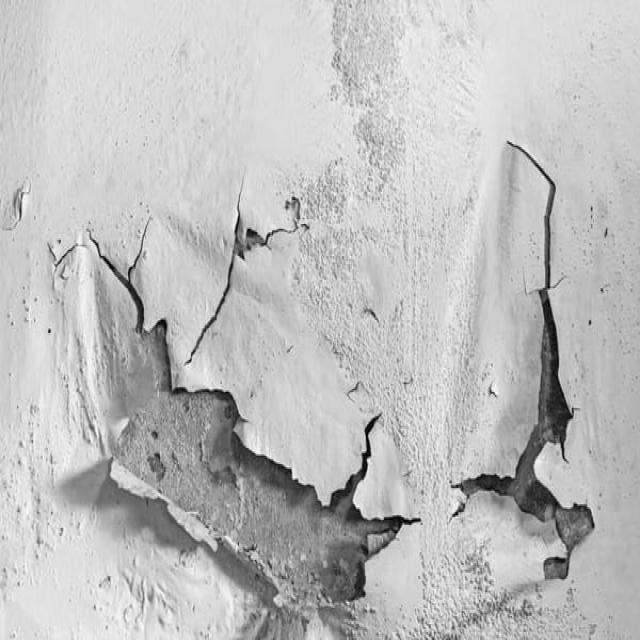Paint peeling: (63, 130, 599, 628)
